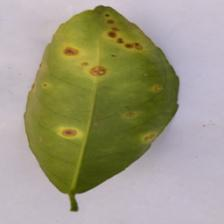canker: (31, 7, 156, 72)
